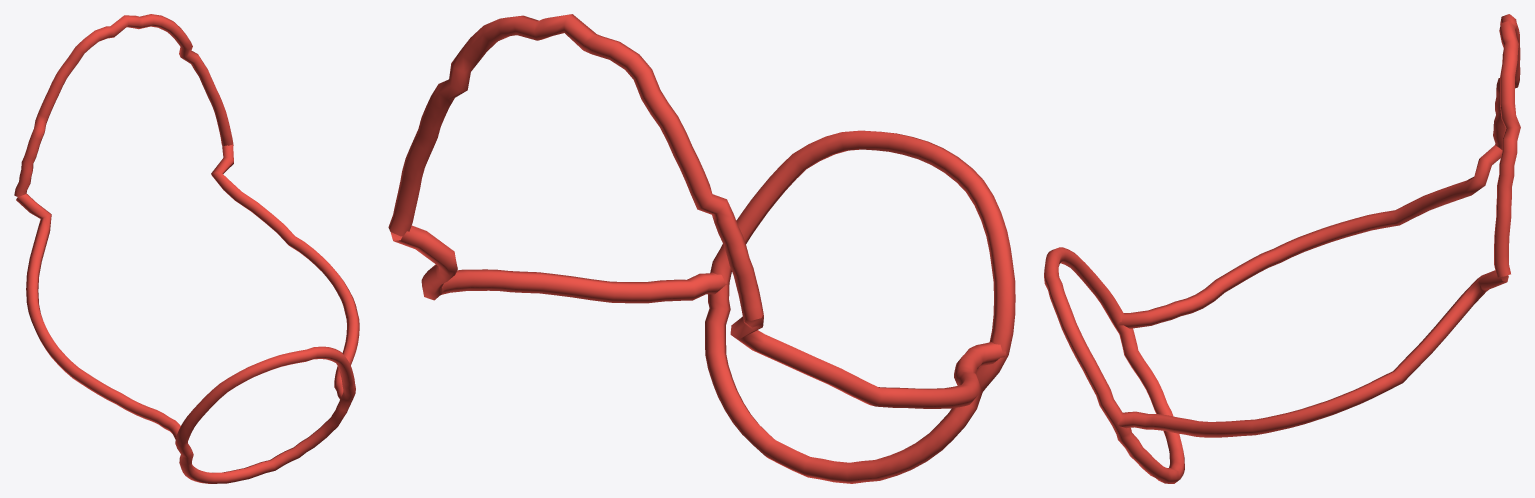
3 renders of one model, left to right at view 1: azimuth 30°, elevation 25°; view 2: azimuth 150°, elevation 25°; view 3: azimuth 270°, elevation 25°, orthographic. The views are drawn at different scales.
Visible parts, largest first — view 1: noseband fitted to muzzle, poll strap behind ears, cheek strap below eye -1, cheek strap below eye 1; view 2: noseband fitted to muzzle, poll strap behind ears, cheek strap below eye 1, cheek strap below eye -1; view 3: noseband fitted to muzzle, cheek strap below eye 1, cheek strap below eye -1, poll strap behind ears.
Part boxes in pixels (<box>): noseband fitted to muzzle: <box>175,346,355,483</box>; poll strap behind ears: <box>14,14,233,197</box>; cheek strap below eye -1: <box>16,193,180,439</box>; cheek strap below eye 1: <box>211,144,359,399</box>; noseband fitted to muzzle: <box>705,130,1015,483</box>; poll strap behind ears: <box>388,14,763,320</box>; cheek strap below eye 1: <box>390,225,727,303</box>; cheek strap below eye -1: <box>730,312,1006,408</box>; noseband fitted to muzzle: <box>1044,247,1184,483</box>; cheek strap below eye 1: <box>1117,270,1508,437</box>; cheek strap below eye -1: <box>1117,145,1502,328</box>; poll strap behind ears: <box>1493,14,1520,277</box>.
Bounding box in the file's own units: 0.2675 × 0.317 × 0.2993.
